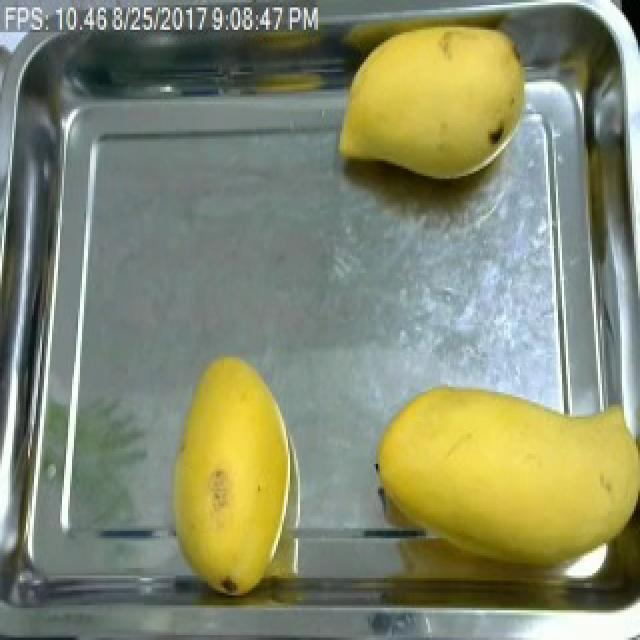fruit: (366, 377, 640, 593), (326, 10, 550, 193), (160, 350, 300, 603)
